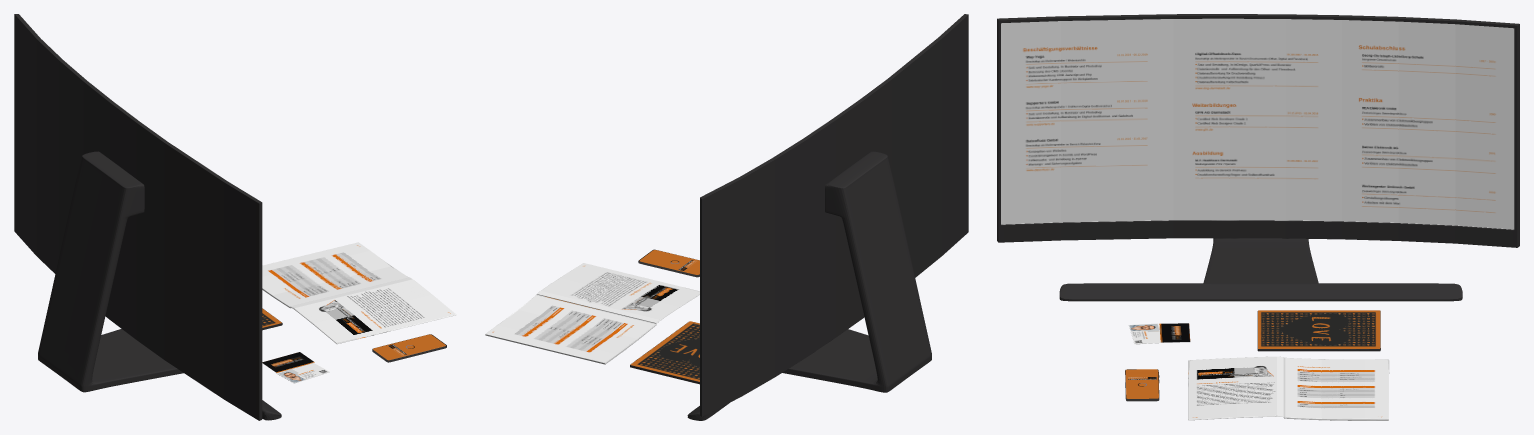
Rendered from three.glb.
3 views of the same model, side by side, from view 1: azimuth 30°, elevation 25°; view 2: azimuth 150°, elevation 25°; view 3: azimuth 270°, elevation 25° (orthographic). The views are drawn at different scales.
Visible parts, largest first — view 1: monitor, magazin, handy, visitenkarten; view 2: monitor, magazin, tablet, handy; view 3: monitor, magazin, tablet, visitenkarten, handy.
Boxes of the visible parts, x1,y1,x2,y2 form: monitor: (14, 14, 281, 420); magazin: (262, 242, 456, 344); handy: (372, 334, 446, 362); visitenkarten: (262, 352, 329, 383); monitor: (687, 14, 968, 420); magazin: (485, 263, 699, 364); tablet: (630, 321, 699, 384); handy: (638, 249, 699, 277); monitor: (997, 14, 1519, 301); magazin: (1188, 356, 1389, 420); tablet: (1257, 310, 1380, 351); visitenkarten: (1128, 323, 1190, 344); handy: (1125, 369, 1159, 401).
Size of the model in its own units: 5.56 by 3.7 by 6.8.
8 materials, 6 textured.
